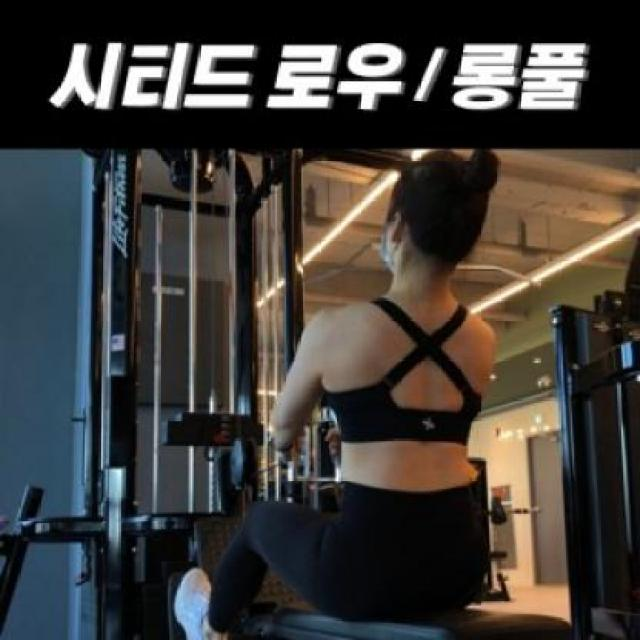Seated Cable Rows: (76, 131, 510, 640)
